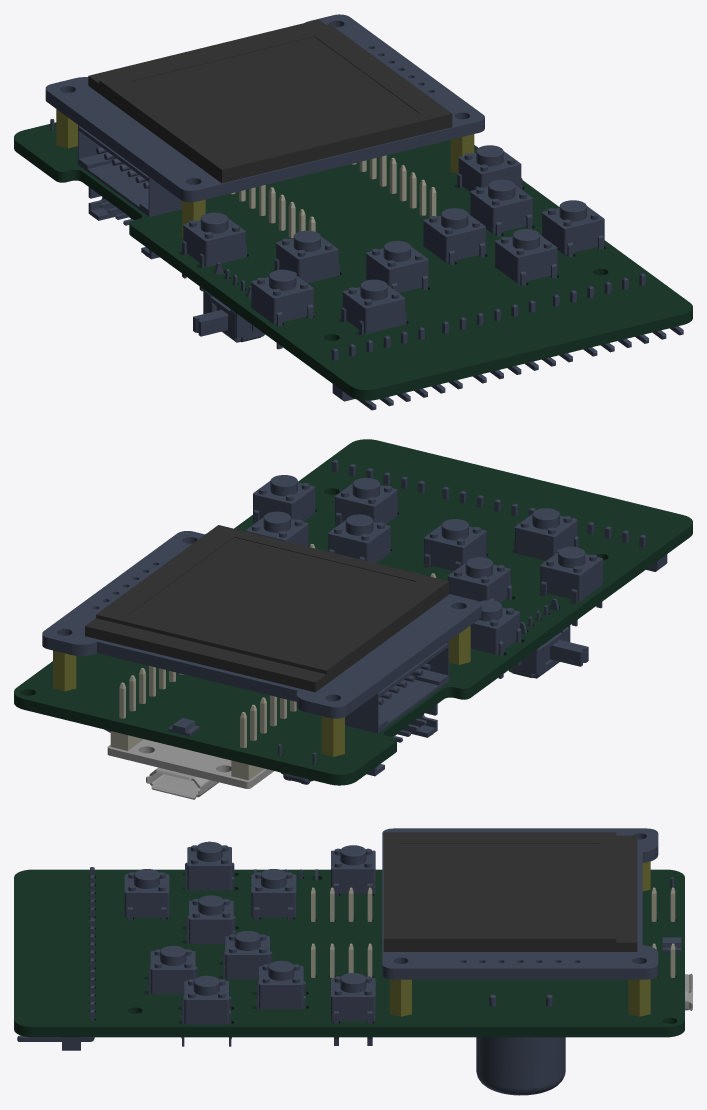
The model's file is vgc-zero.glb.
3 views of the same model, one above another, from view 1: azimuth 30°, elevation 25°; view 2: azimuth 150°, elevation 25°; view 3: azimuth 270°, elevation 25° (orthographic). The views are drawn at different scales.
Size of the model in its own units: 53.5 by 20.51 by 91.07.
